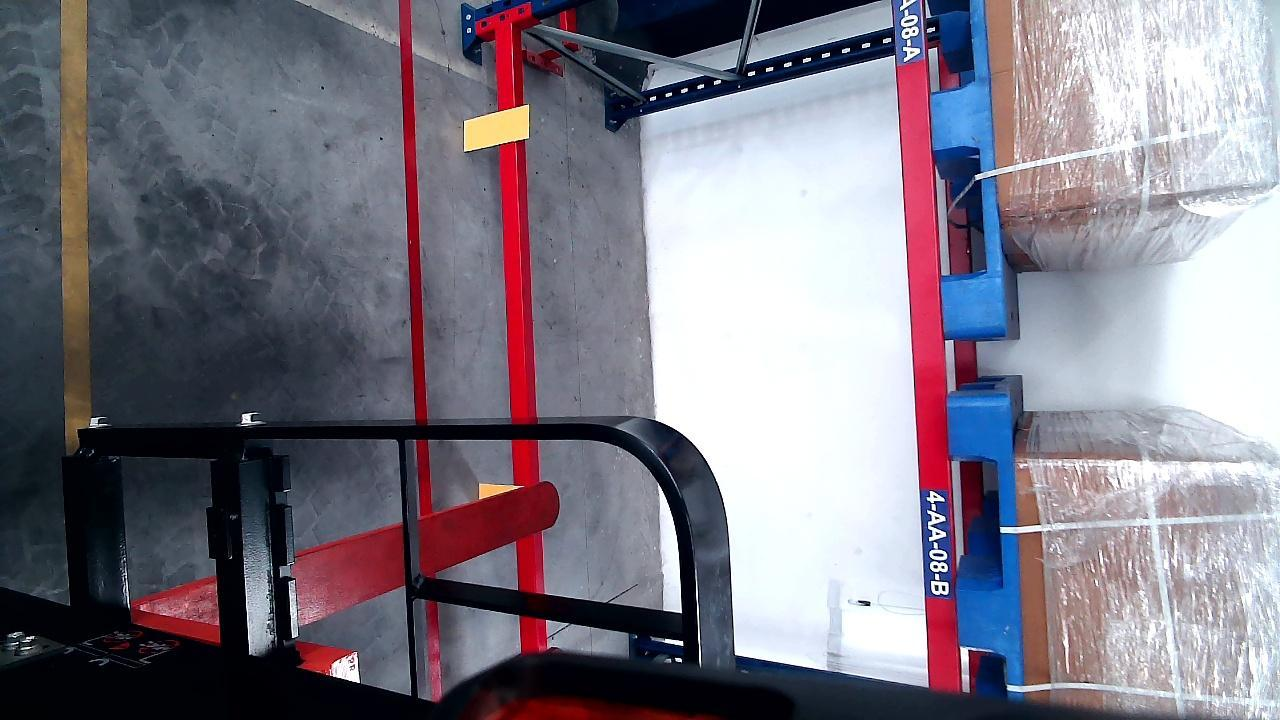red_line: (398, 0, 431, 426)
yellow_line: (60, 1, 93, 437)
